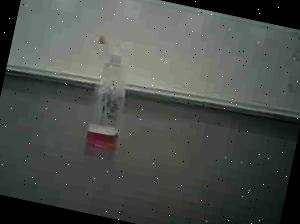hazard: (68, 31, 144, 159)
